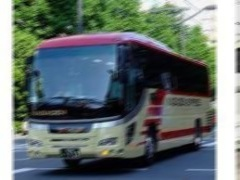bus: (26, 29, 208, 167)
